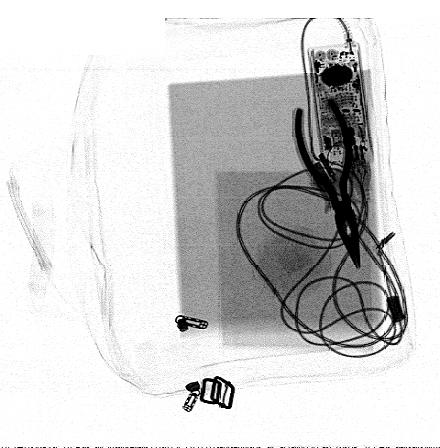Pliers: (292, 94, 362, 269)
